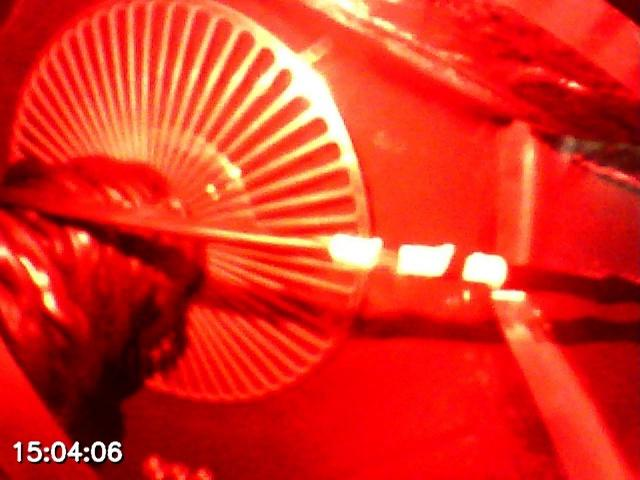white-dots: (326, 232, 508, 290)
